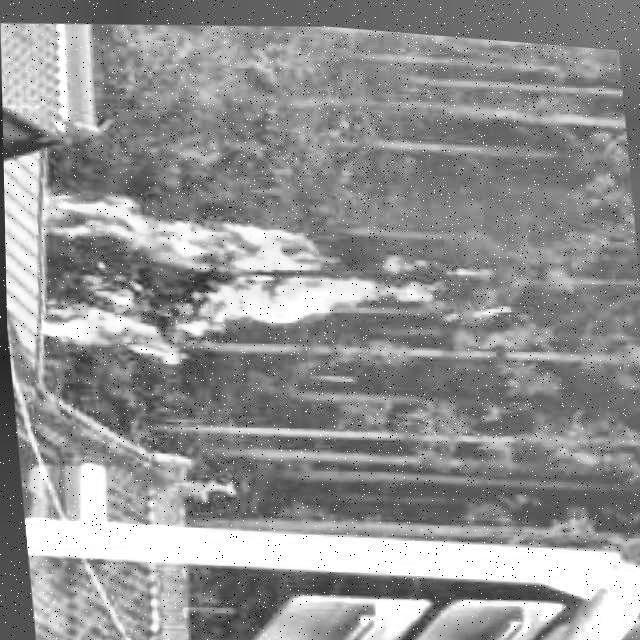Fire: (30, 165, 443, 378)
